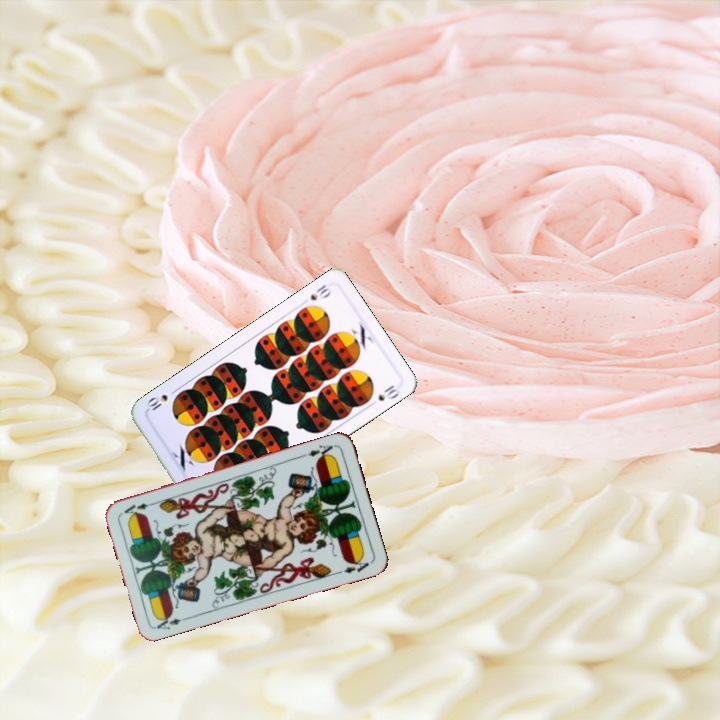EA: (153, 610, 192, 632), (298, 441, 338, 462)
S10: (306, 280, 334, 303)
